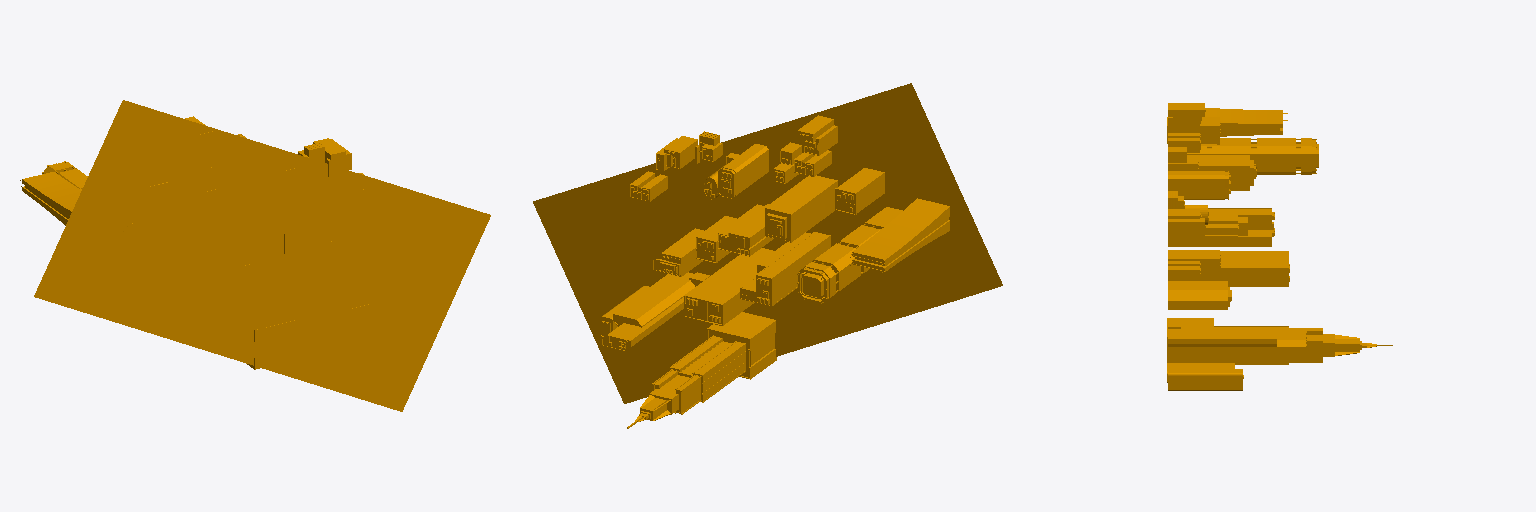
The robot description file, URDF, robot "object":
<?xml version="1.0"?>
<robot name="object">
 <link name="link">
    <visual>
      <geometry>
        <mesh filename="beautiful_city.obj"/>
      </geometry>
      <material name="material">
        <texture filename="beautiful_city.mtl"/>
      </material>
    </visual>
    <collision>
      <geometry>
        <mesh filename="beautiful_city.obj"/>
      </geometry>
    </collision>
 </link>
</robot>

--- What the picture shows (computed from the rendered views, not written in the file) ---
Views: 3 orthographic renders of the robot side by side, from view 1: azimuth 30°, elevation 25°; view 2: azimuth 150°, elevation 25°; view 3: azimuth 270°, elevation 25°.
Model object with 1 links and 0 joints (none), rooted at link, posed all joints at 0.
Visible links, largest first — view 1: link; view 2: link; view 3: link.
Link boxes in pixels (left/top/right/bottom): link: left=20, top=100, right=490, bottom=411; link: left=533, top=83, right=1002, bottom=428; link: left=1167, top=103, right=1392, bottom=390.
Size in the robot's own frame: 5.74 by 2.69 by 4.56 metres.
1 mesh visuals loaded from 1 distinct referenced files (1 OBJ).
